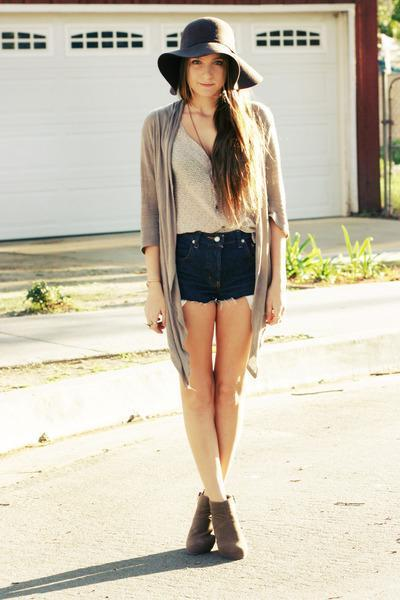Shorts: (163, 222, 267, 304)
sweater: (137, 95, 291, 390)
vest: (163, 107, 260, 244)
